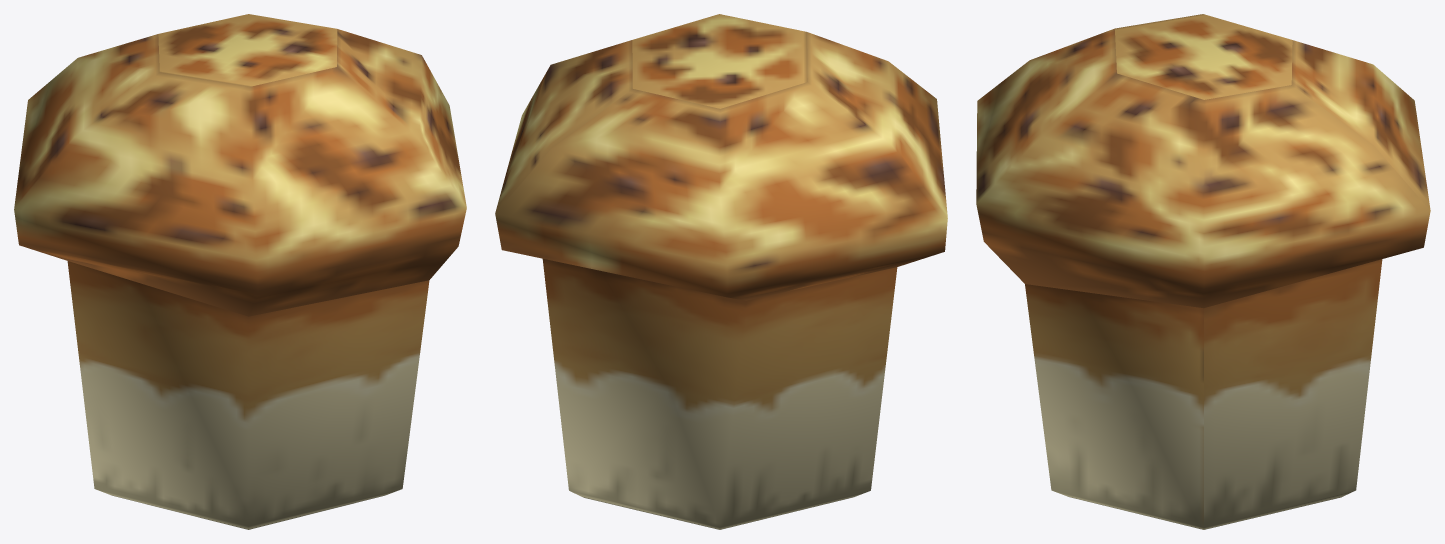
File: Muffin.FBX
3 views of the same model, side by side, from view 1: azimuth 30°, elevation 25°; view 2: azimuth 150°, elevation 25°; view 3: azimuth 270°, elevation 25° (orthographic).
Parts seen in each view (by area): view 1: Cylinder001; view 2: Cylinder001; view 3: Cylinder001.
Part boxes in pixels (left/top/right/bottom): Cylinder001: left=14, top=14, right=466, bottom=529; Cylinder001: left=495, top=14, right=947, bottom=529; Cylinder001: left=976, top=14, right=1430, bottom=529.
Bounding box in the file's own units: 16.75 × 15.42 × 15.32.
